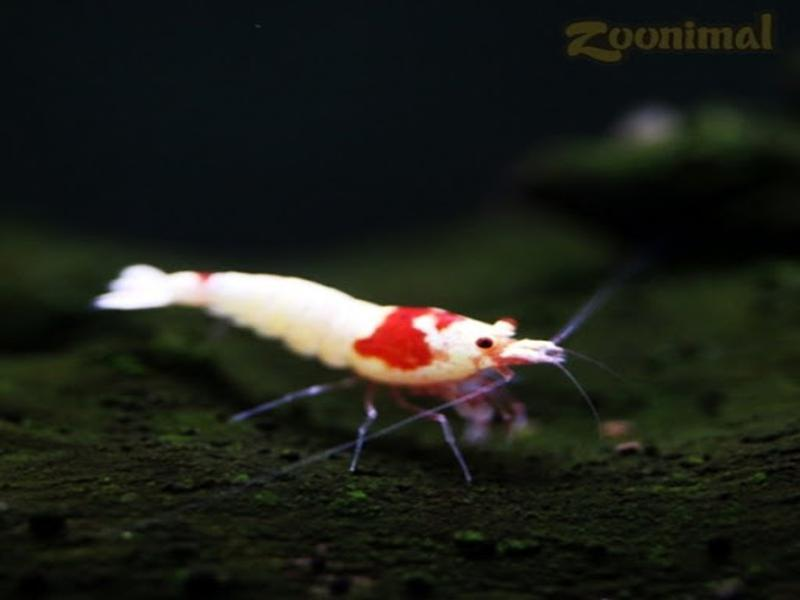shrimp: (93, 257, 567, 479)
